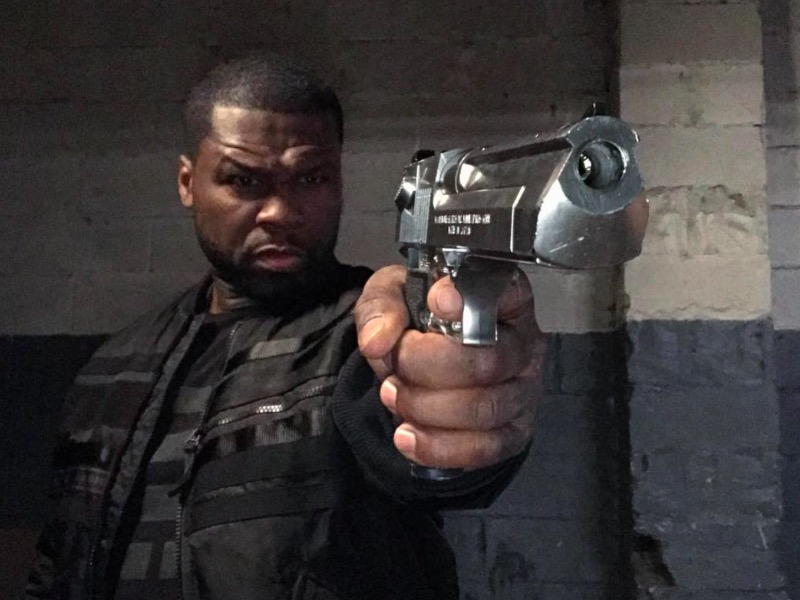gun: (389, 100, 653, 358)
